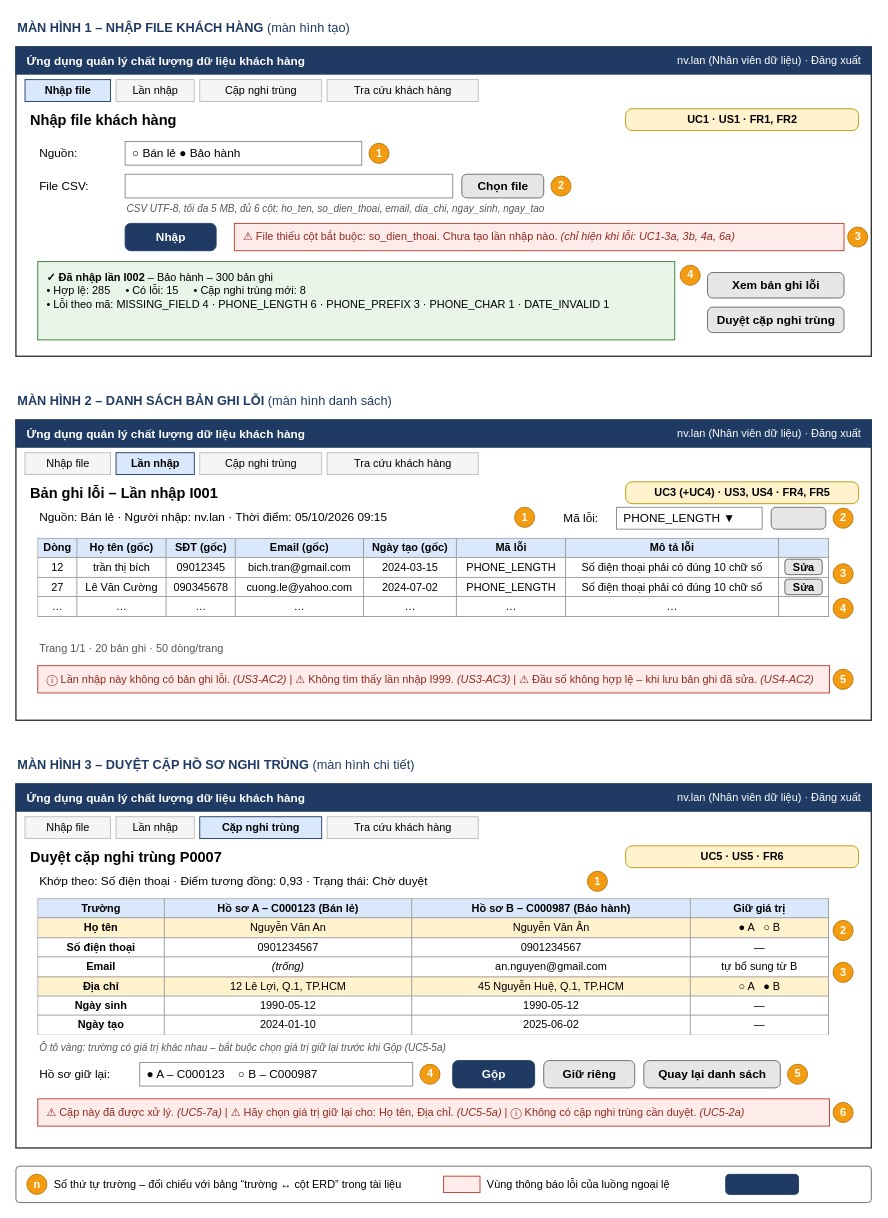
Image size: 888x1218. Some labels were removed from this diagram. The shapes that lost their labels are listed below. From the top down, each one's centre as x and y in pixels, then its label:
the point at 288,185: khach_hang_bao_hanh_2026-10-05.csv
the point at 798,517: Lọc
the point at 762,1183: Nút chính
